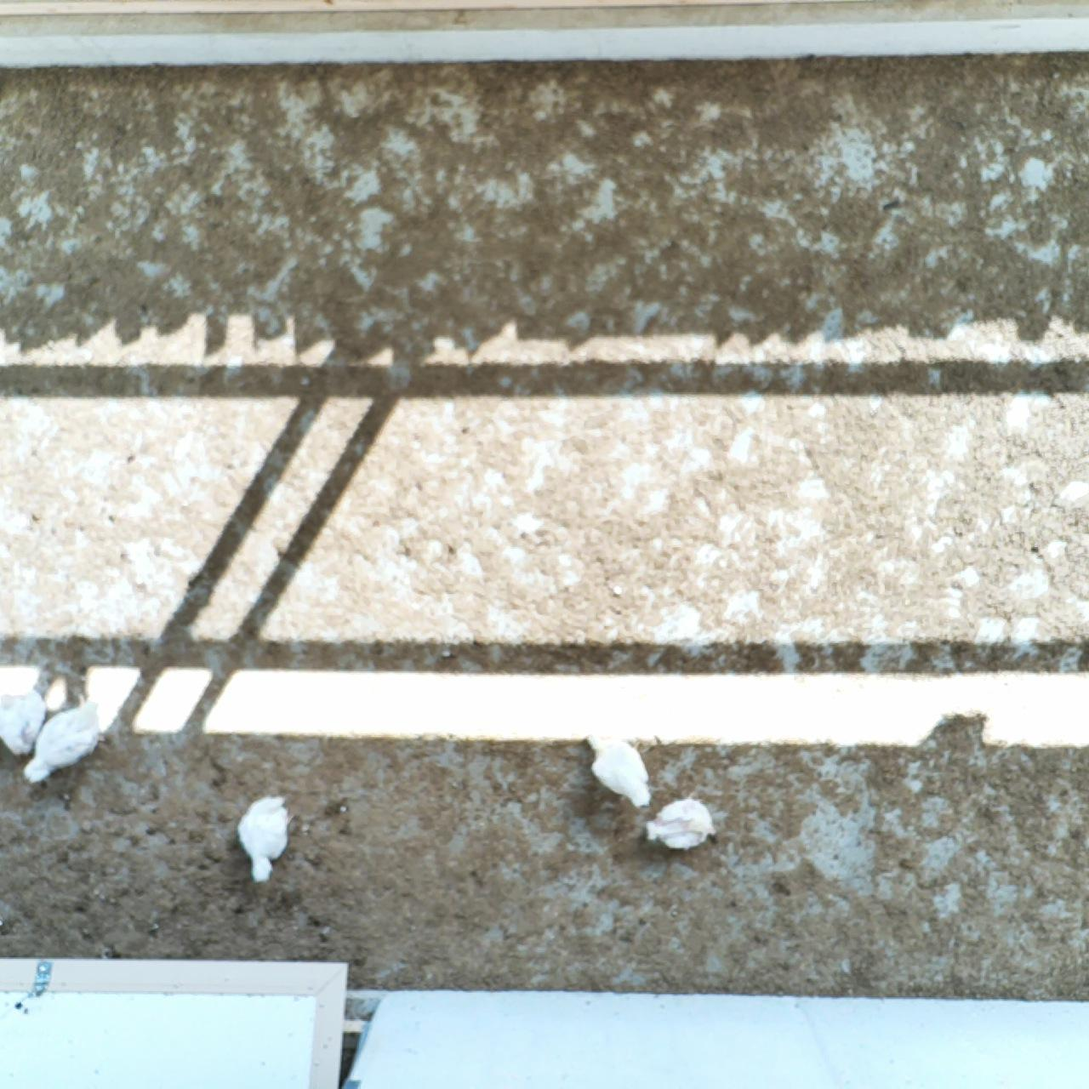chicken: (17, 691, 109, 786), (580, 721, 654, 812), (237, 784, 301, 888), (636, 793, 722, 857), (0, 670, 49, 764)
